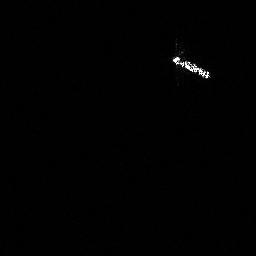ship: (169, 52, 215, 81)
